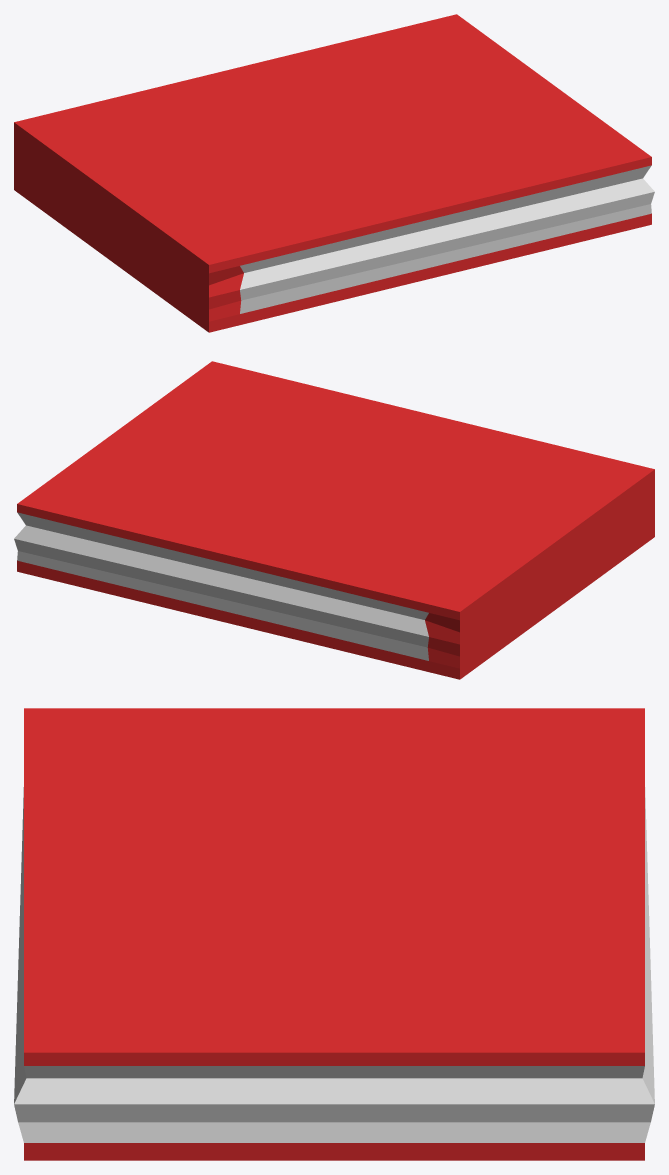
Rendered from schetsblok.fbx.
The picture shows the model from 3 angles, top to bottom: view 1: azimuth 30°, elevation 25°; view 2: azimuth 150°, elevation 25°; view 3: azimuth 270°, elevation 25°; orthographic projection. The views are drawn at different scales.
Visible parts, largest first — view 1: Cube; view 2: Cube; view 3: Cube.
Boxes of the visible parts, x1,y1,x2,y2 form: Cube: [14, 14, 654, 332]; Cube: [14, 361, 654, 679]; Cube: [14, 708, 654, 1160].
Bounding box in the file's own units: 303 × 44.28 × 238.
